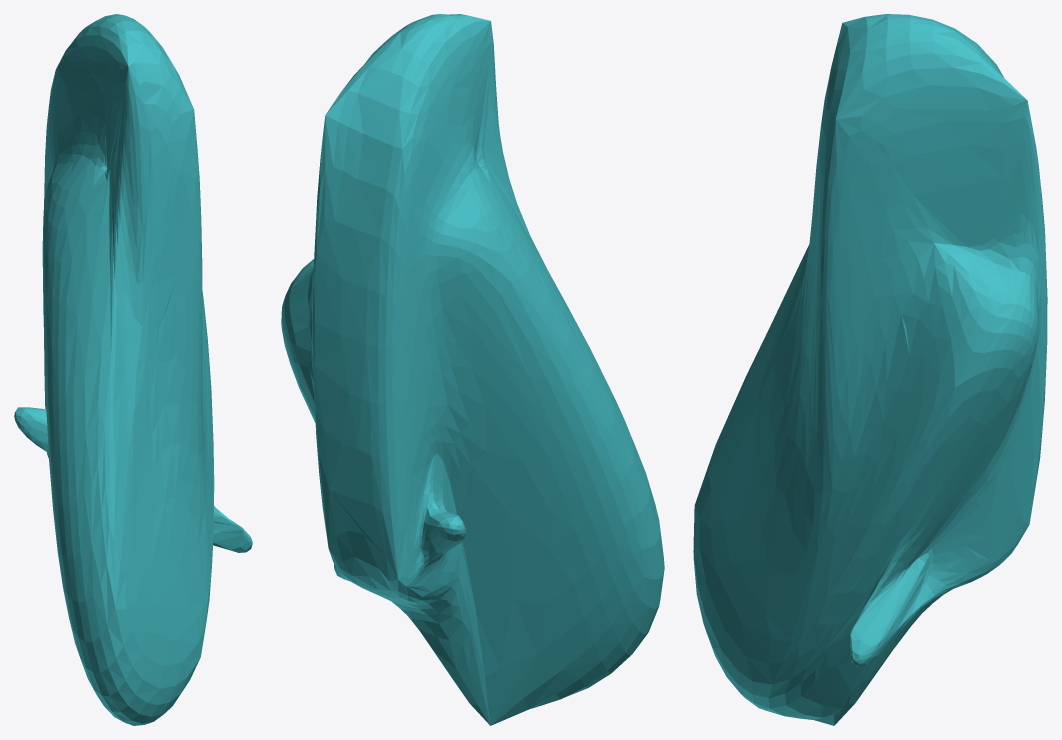
3 renders of one model, left to right at view 1: azimuth 30°, elevation 25°; view 2: azimuth 150°, elevation 25°; view 3: azimuth 270°, elevation 25°, orthographic. The views are drawn at different scales.
Parts seen in each view (by area): view 1: 527_Cube.2124; view 2: 527_Cube.2124; view 3: 527_Cube.2124.
Part boxes in pixels (x1=…): 527_Cube.2124: x1=14, y1=14, x2=252, y2=725; 527_Cube.2124: x1=281, y1=14, x2=664, y2=725; 527_Cube.2124: x1=693, y1=14, x2=1047, y2=725.
Size of the model in its own units: 5.55 by 14.85 by 6.62.
